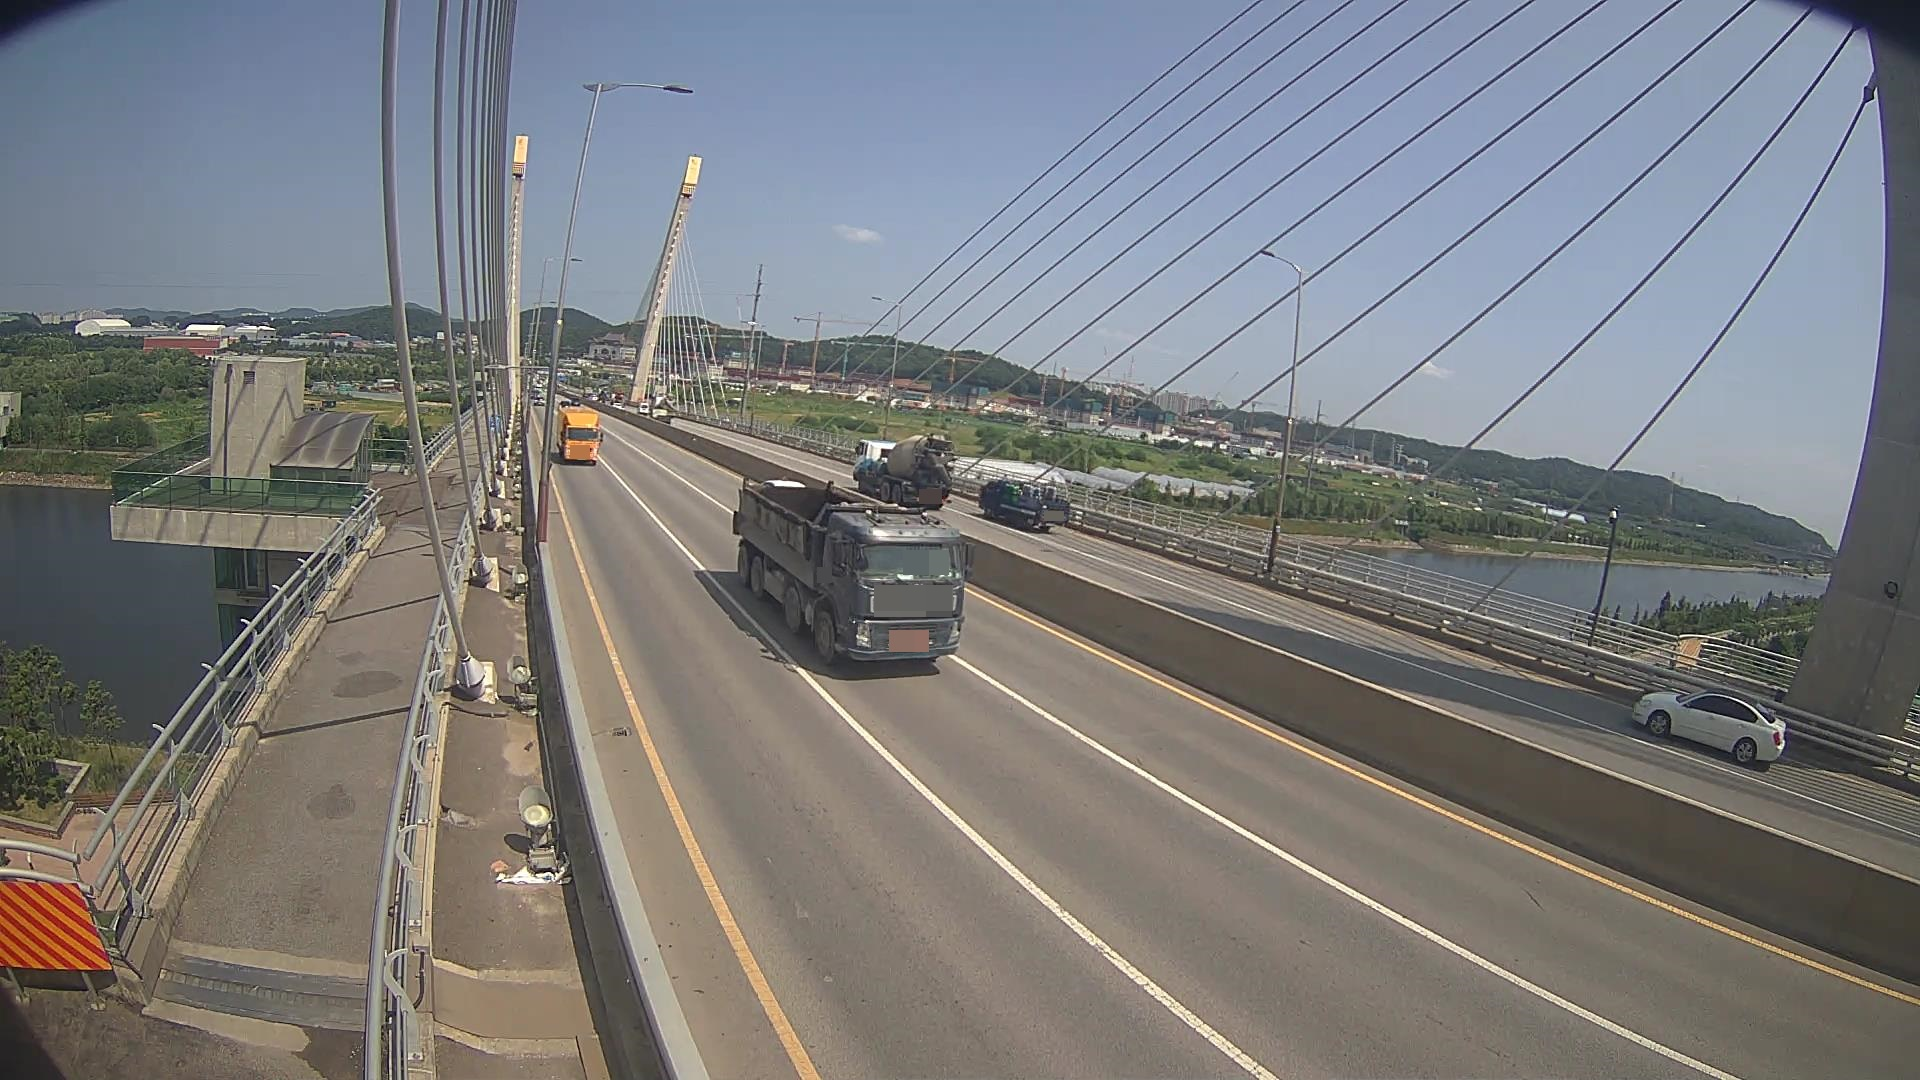정상차량: (732, 477, 975, 665)
